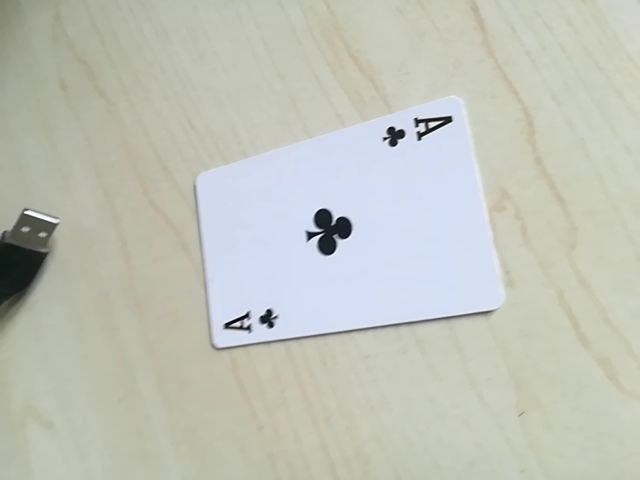mh a: (376, 110, 457, 154), (214, 298, 287, 343)
